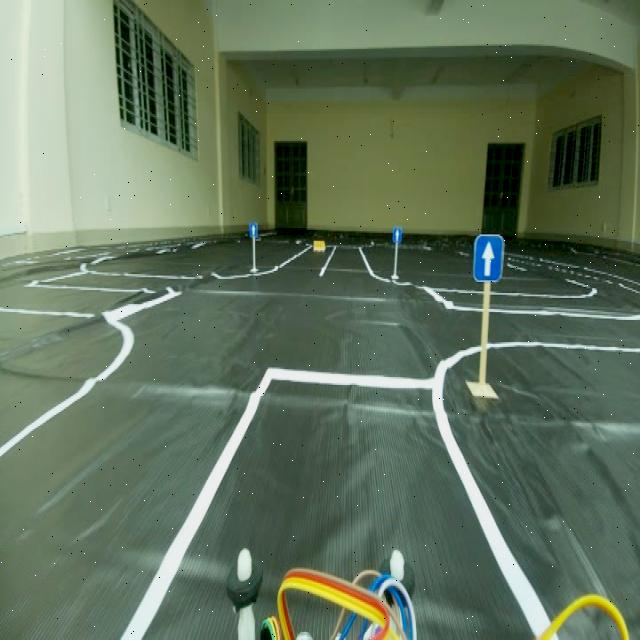onewayroad: (470, 226, 508, 280), (391, 221, 401, 249), (247, 218, 258, 234)
roadblock: (310, 236, 326, 255)
